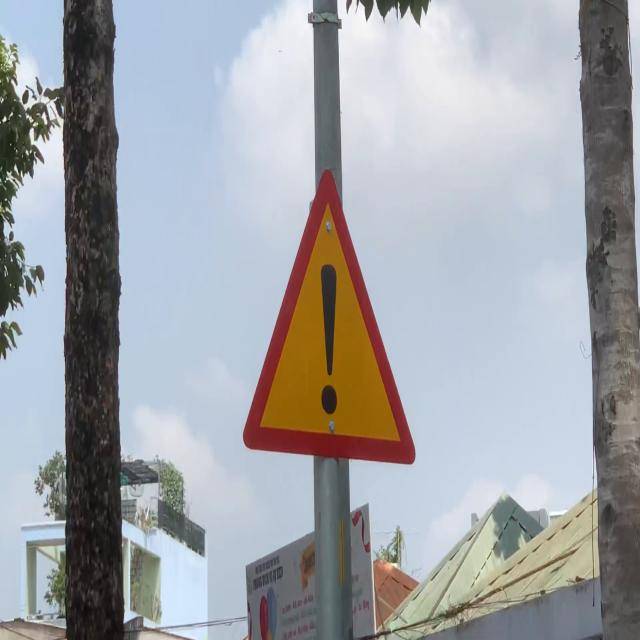Nguy hiem: (239, 164, 420, 472)
